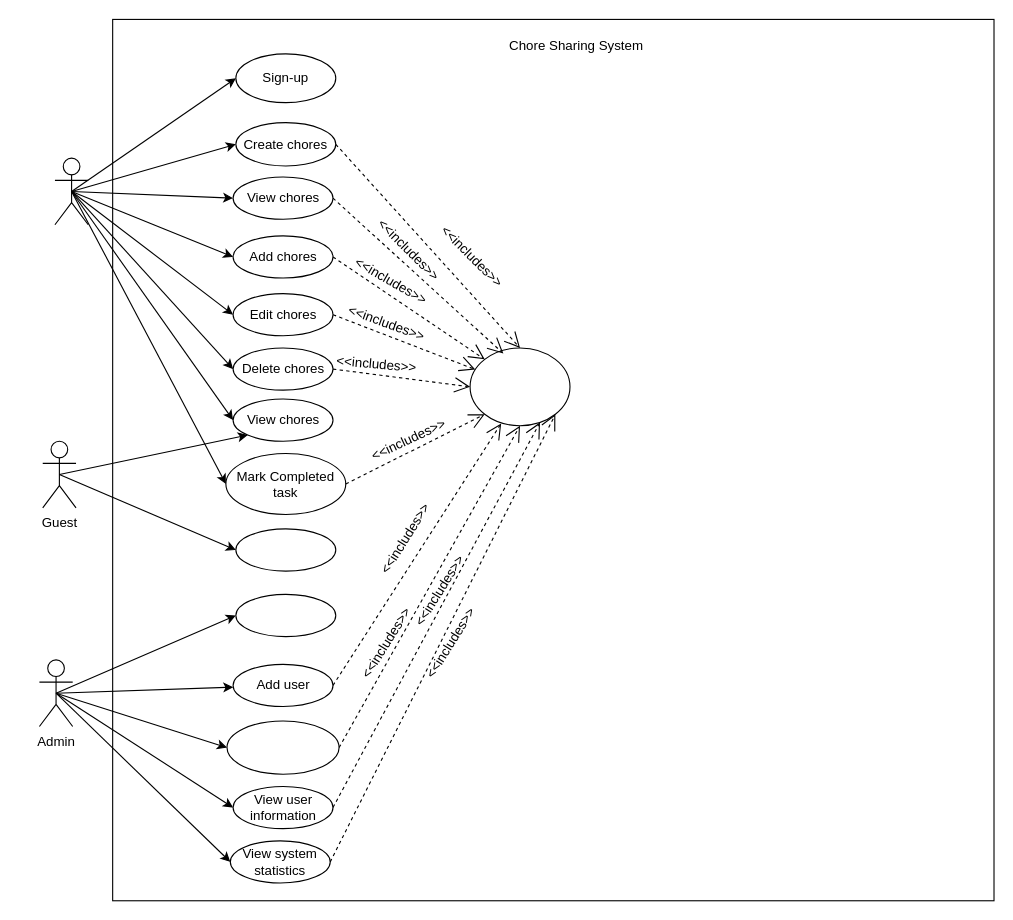
The diagram is 1013 pixels wide and 920 high, and some of its shapes have lost their labels. The shapes that lost their labels are listed below. From the top down, each one's box as (x1, y1, x2, y2) in pixels, then its label:
(54, 157, 88, 225): User/Collaborator
(469, 347, 570, 426): Login
(235, 528, 336, 571): View system information
(235, 593, 336, 637): Remove user
(226, 720, 339, 774): Update information
